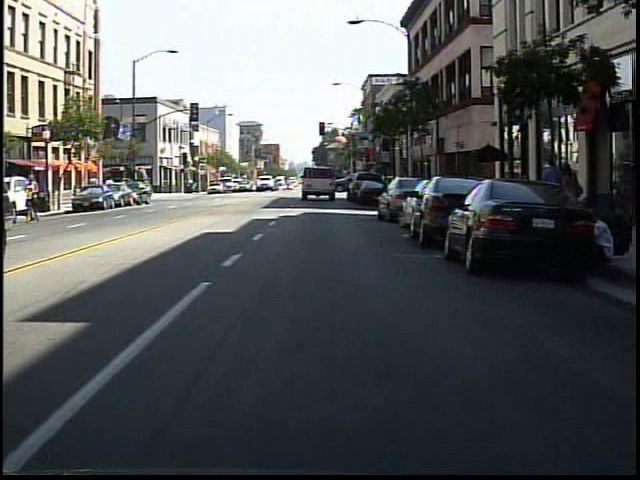person: (536, 153, 564, 231), (559, 157, 583, 226), (23, 167, 47, 229)
